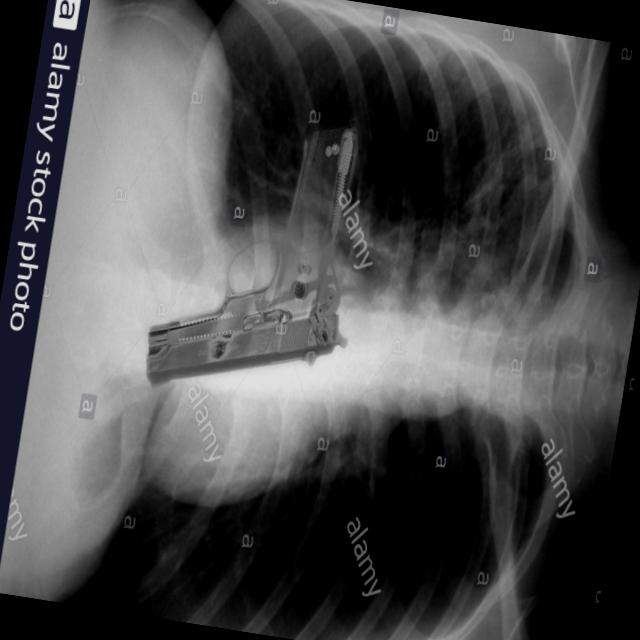handgun: (142, 95, 382, 416)
